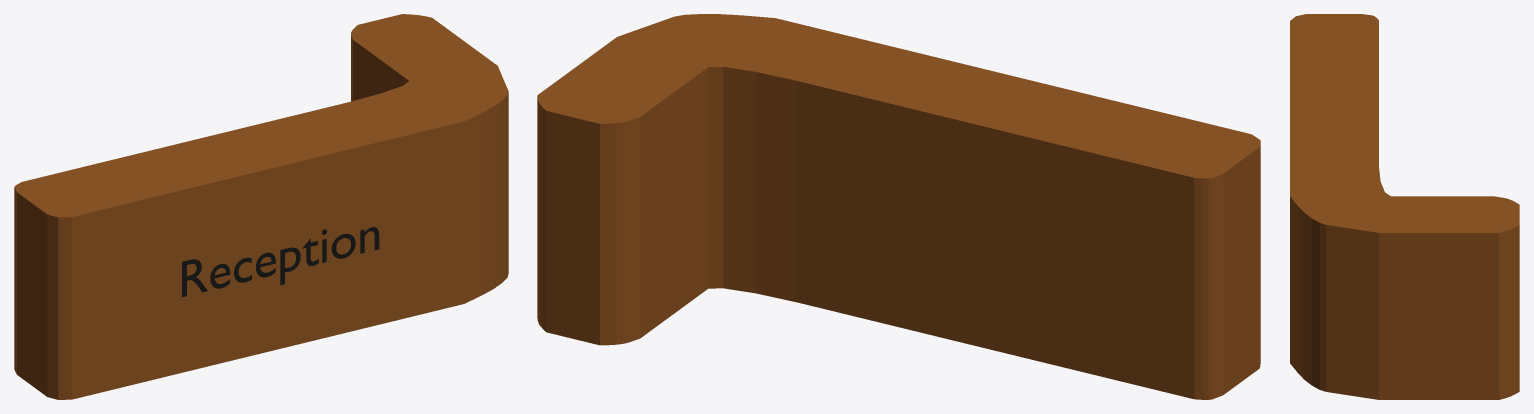
The model's file is ReceptionTable.fbx.
3 renders of one model, left to right at view 1: azimuth 30°, elevation 25°; view 2: azimuth 150°, elevation 25°; view 3: azimuth 270°, elevation 25°, orthographic. The views are drawn at different scales.
Parts seen in each view (by area): view 1: Cube, Text; view 2: Cube; view 3: Cube.
Part boxes in pixels (x1,y1,x2,y2): Cube: [14, 14, 508, 399]; Text: [182, 227, 379, 297]; Cube: [537, 14, 1260, 399]; Cube: [1290, 14, 1519, 399].
Size of the model in its own units: 4278 by 1523 by 1903.
